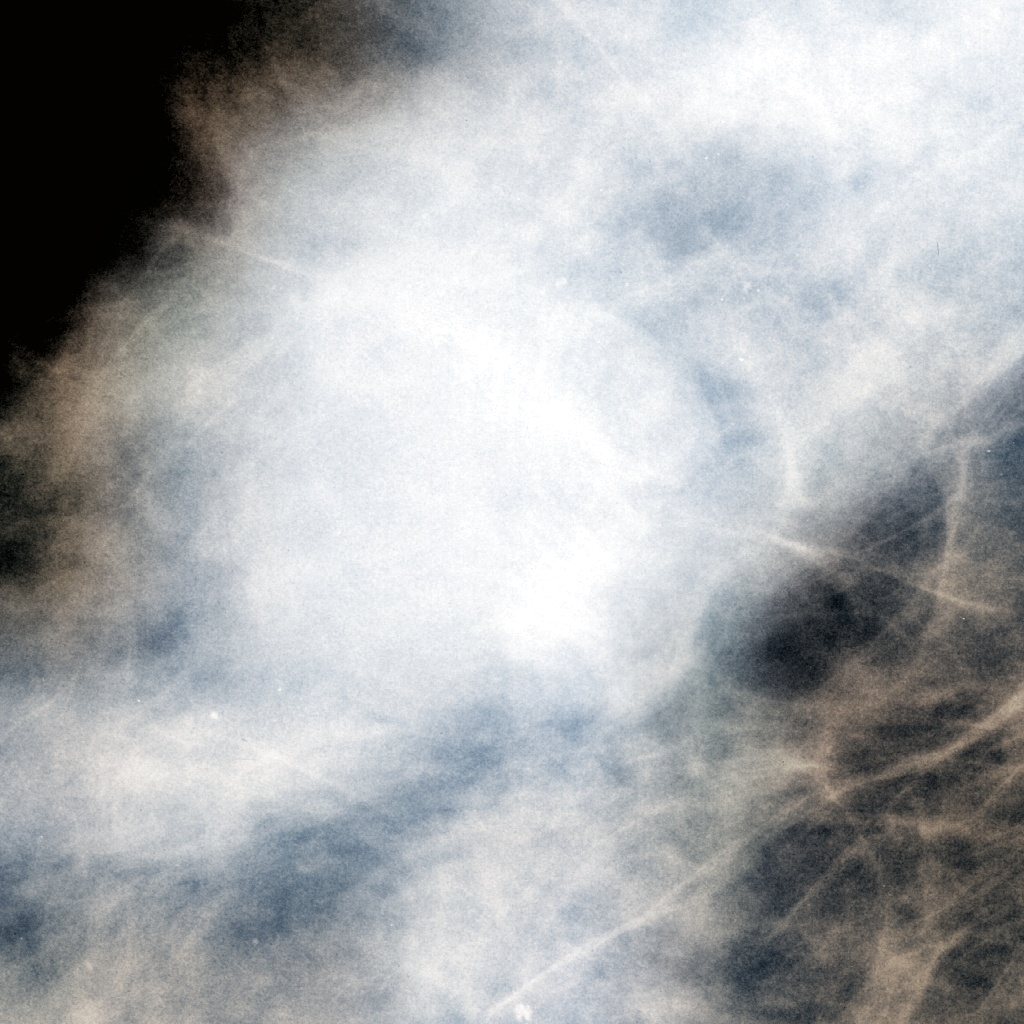tumor: (286, 332, 738, 692)
